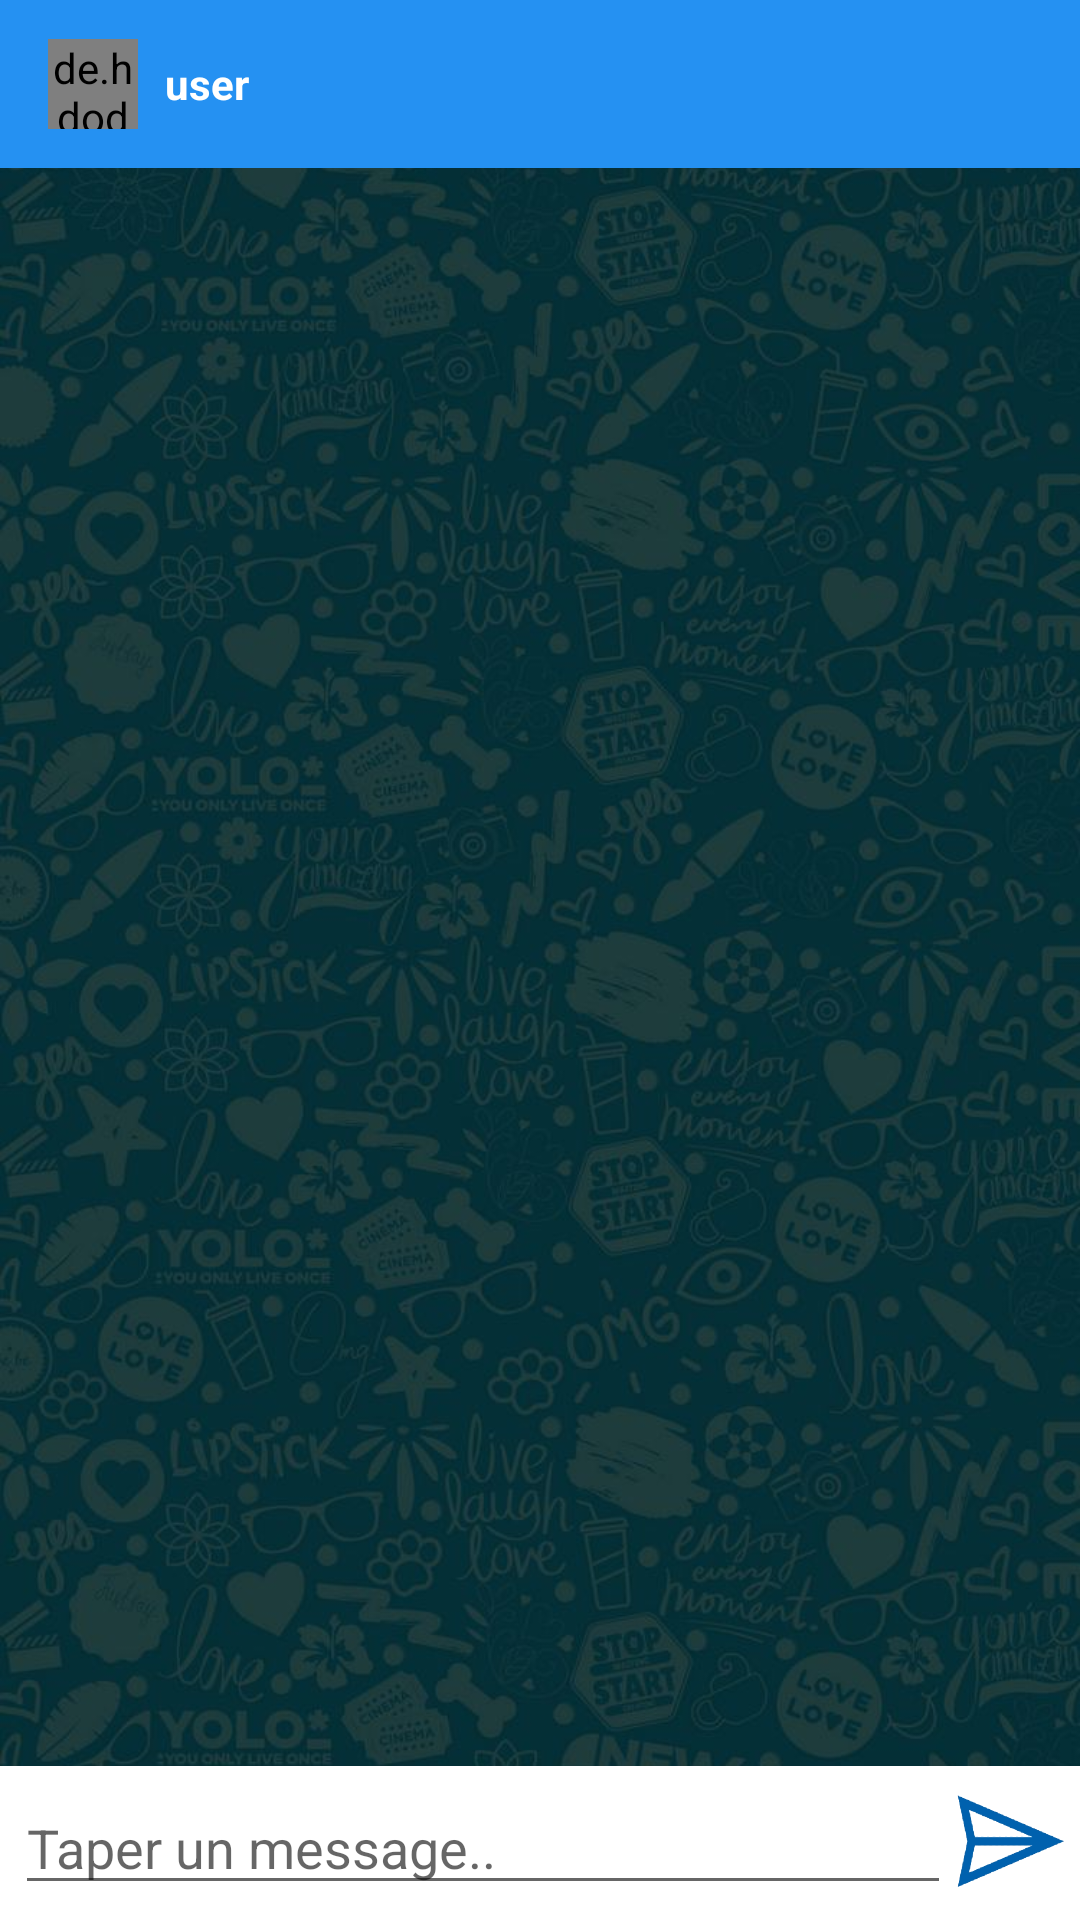

Where icons sit on this 1080×1920 app screen, as (x1, y1, x2, y2):
send: (958, 1795, 1064, 1887)
